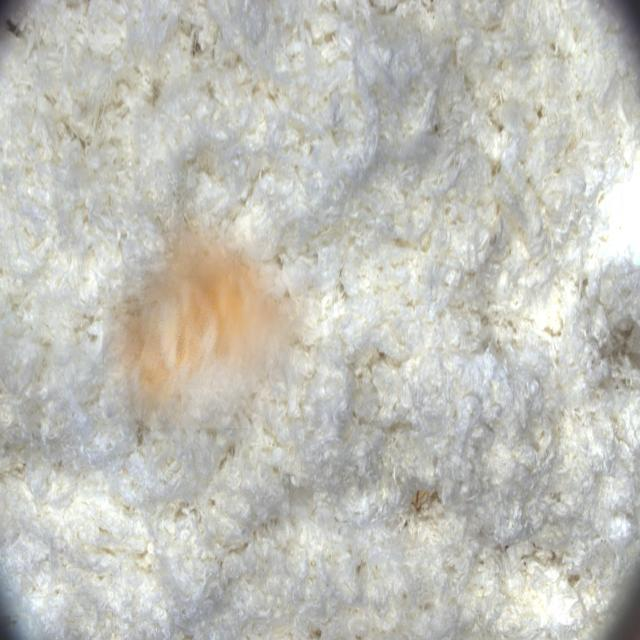dust: (103, 190, 322, 428)
